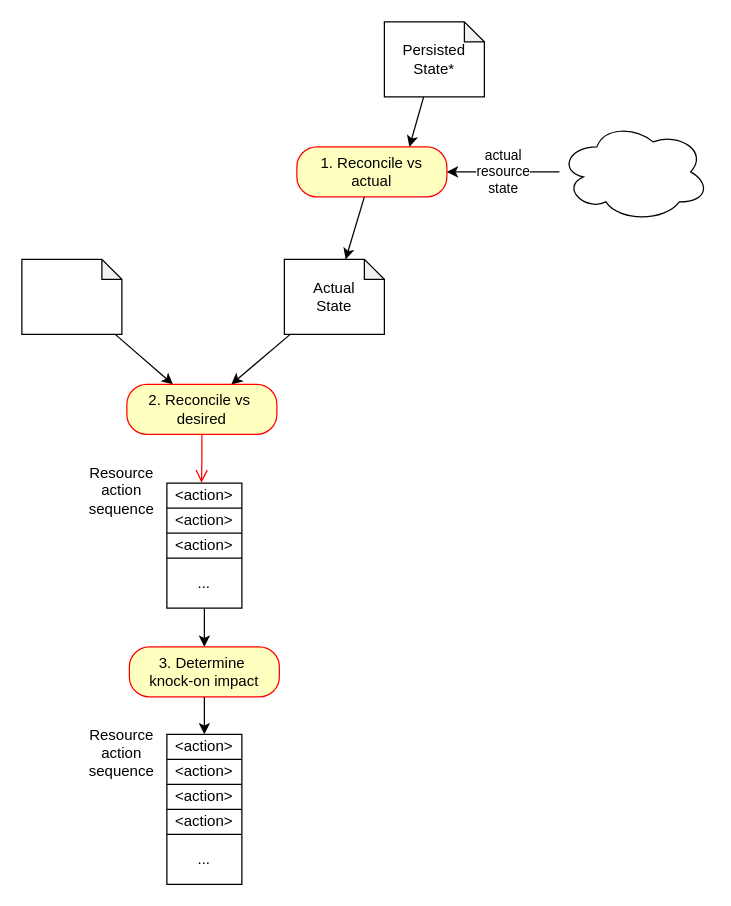
This 731x906 diagram has some shape labels left out. Each missing label, with the centre of its shape:
Desired State: the point at 71,296
Golem network: the point at 633,171
